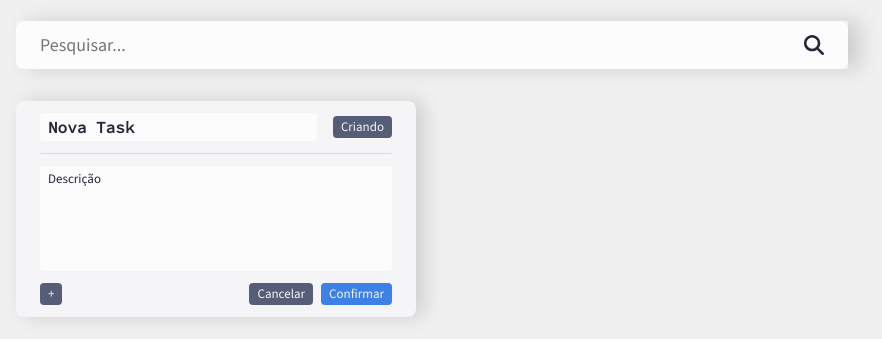
Scenario: Criação de tasks › Cria uma nova task com tags
This screenshot has width=882, height=339.
In the field with id "new-task-title": (179, 127) [40,113,317,141], type "Nova tarefa com tags"
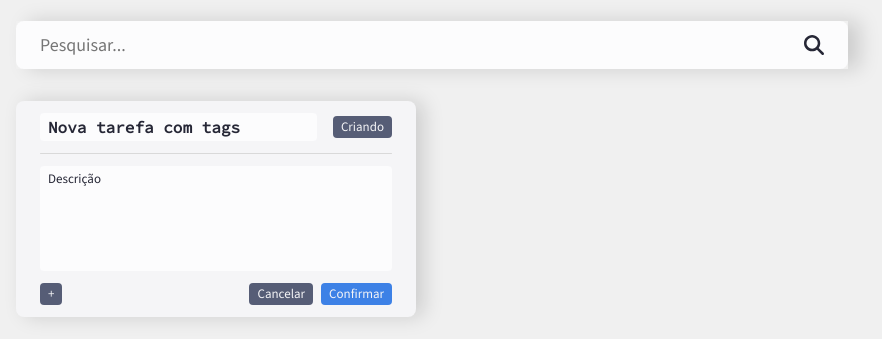
In the text box with id "new-task-description": (216, 219) [40,166,392,271], type "Descrição da tarefa"
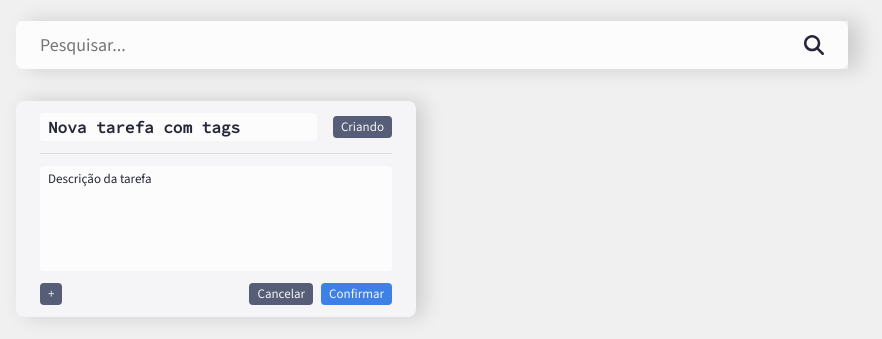
Click the button "+": (52, 294) [40,283,63,305]
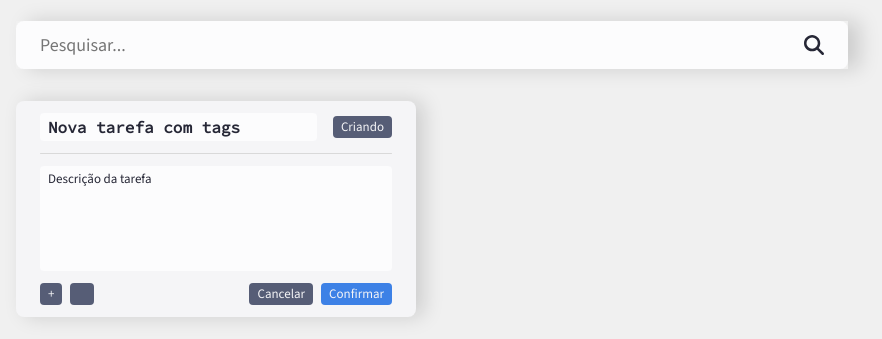
In the field with class "in-creation-tag": (83, 295) [79,286,87,303], type "tag1"
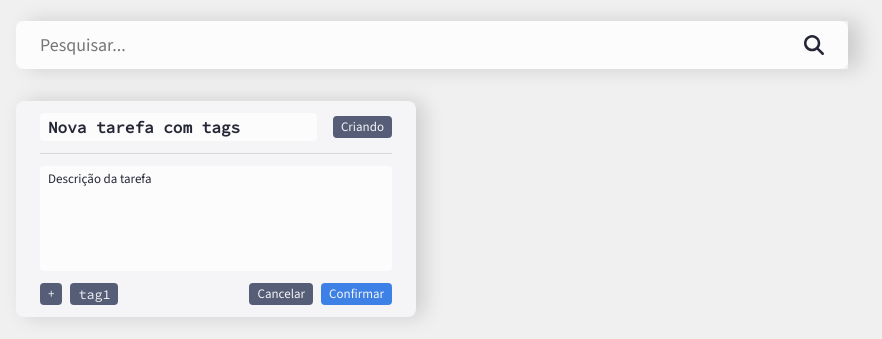
# Finaliza e checa se a task foi criada
Click the button "Confirmar": (357, 294) [321,283,392,305]
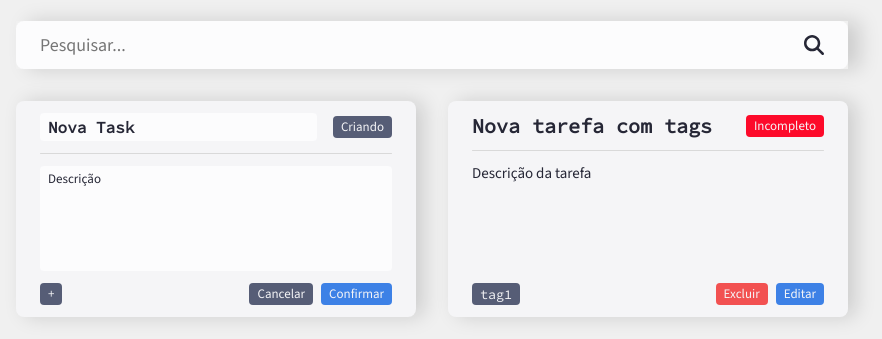
expect the element with class "task" is shown: met, box [448,101,848,317]
